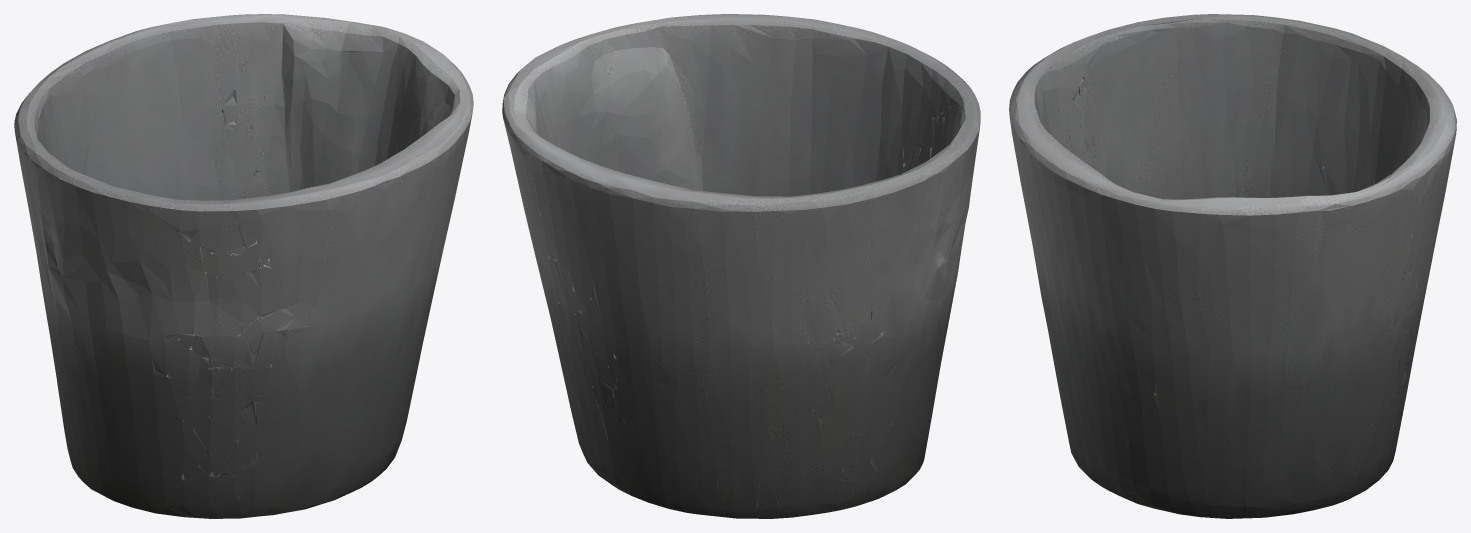
File: grey_trash_can_000.glb
The picture shows the model from 3 angles, left to right: view 1: azimuth 30°, elevation 25°; view 2: azimuth 150°, elevation 25°; view 3: azimuth 270°, elevation 25°; orthographic projection.
Visible parts, largest first — view 1: phase2_final_grey_trash_can_000.obj; view 2: phase2_final_grey_trash_can_000.obj; view 3: phase2_final_grey_trash_can_000.obj.
Part boxes in pixels (bbox=[...]): phase2_final_grey_trash_can_000.obj: bbox=[14, 14, 473, 518]; phase2_final_grey_trash_can_000.obj: bbox=[502, 14, 980, 518]; phase2_final_grey_trash_can_000.obj: bbox=[1009, 14, 1456, 518].
Size of the model in its own units: 0.1655 by 0.1347 by 0.1539.
1 material, 1 textured.
